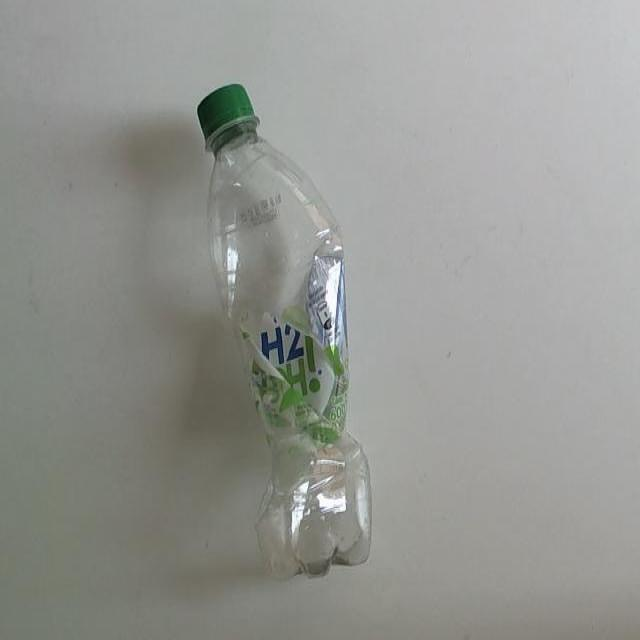defect: (193, 78, 375, 585)
